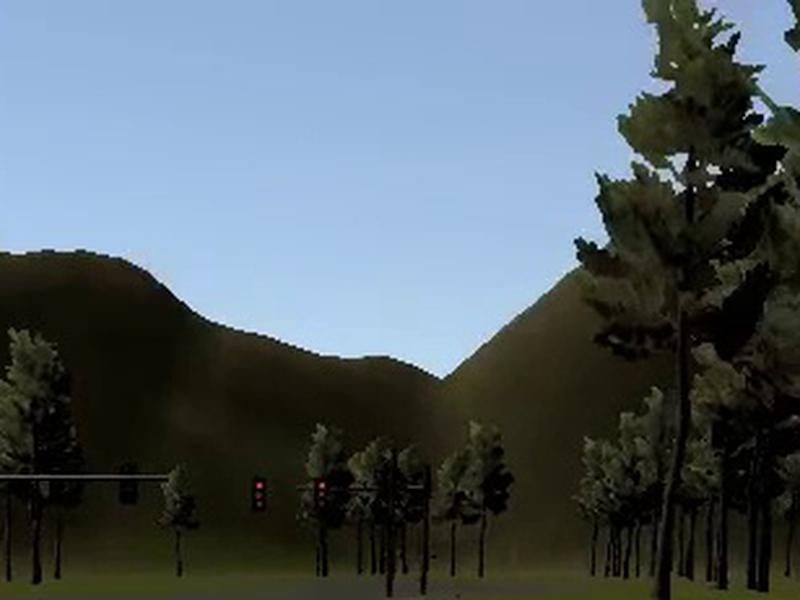Red: (312, 477, 328, 511), (249, 480, 265, 513)
